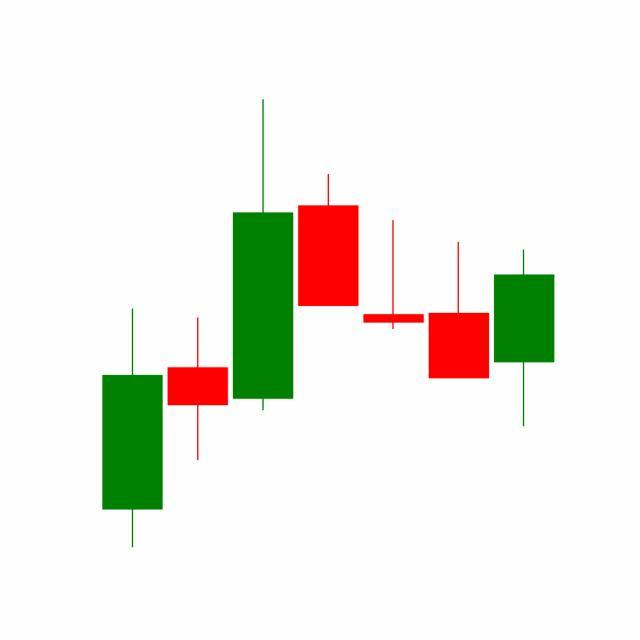Identical Three Crows: (295, 173, 492, 381)
